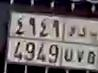4: (13, 16, 24, 61), (37, 18, 47, 62)
9: (25, 16, 36, 62), (49, 19, 59, 64)
B: (87, 27, 98, 66)
D: (77, 26, 86, 63)
U: (64, 22, 74, 62)
